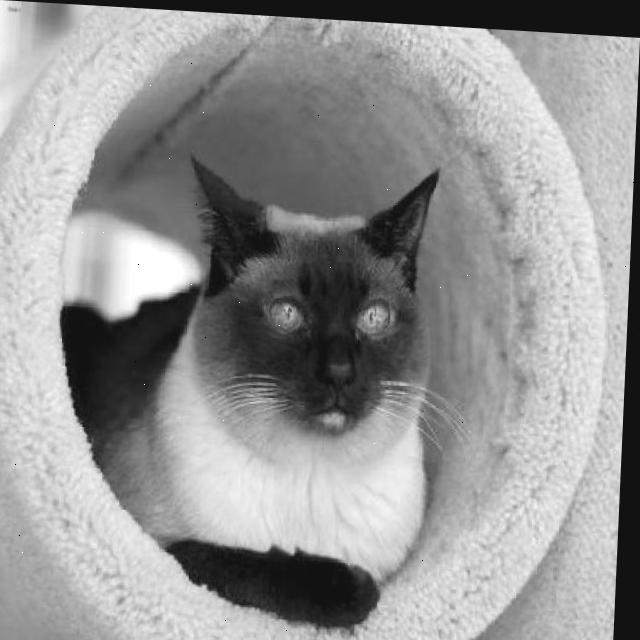Cat: (97, 148, 438, 630)
